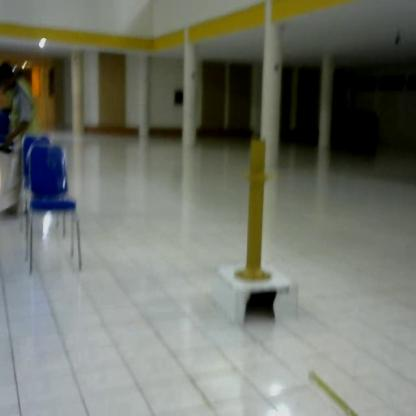pole: (229, 137, 282, 288)
